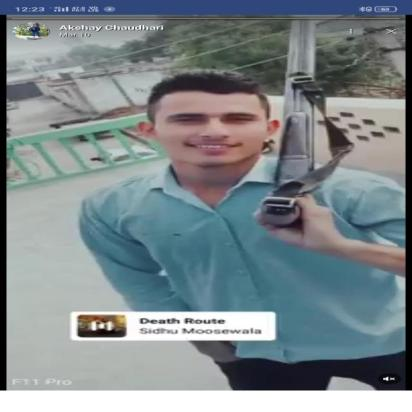Gun: (249, 16, 327, 232)
